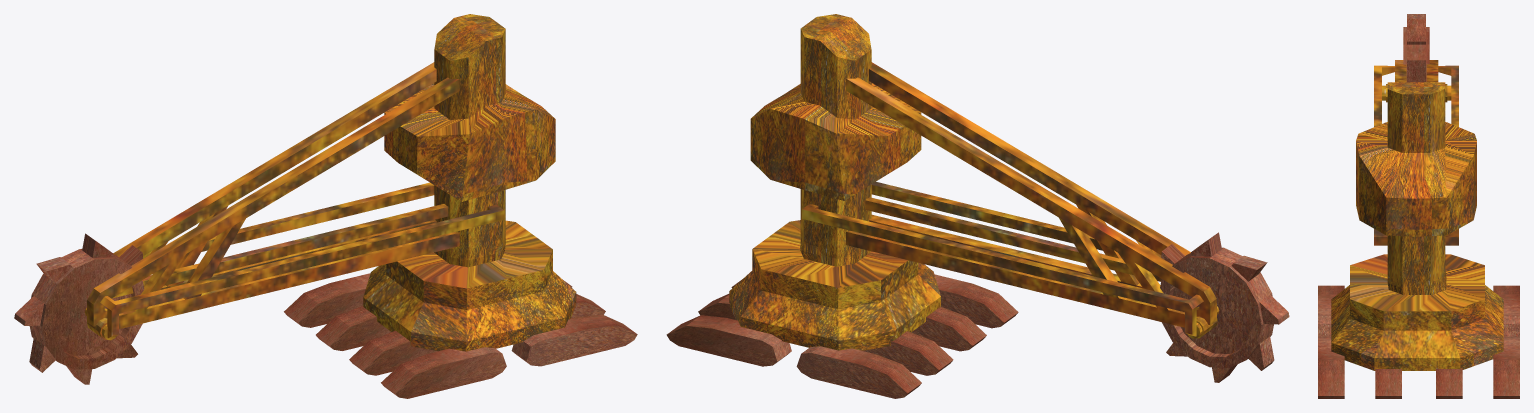
File: ExtractionMachene.glb
3 renders of one model, left to right at view 1: azimuth 30°, elevation 25°; view 2: azimuth 150°, elevation 25°; view 3: azimuth 270°, elevation 25°, orthographic. The views are drawn at different scales.
Parts seen in each view (by area): view 1: Frame, RotatingTower, Base, Wheels, MainGear; view 2: Frame, RotatingTower, Base, Wheels, MainGear; view 3: RotatingTower, Base, Wheels, Frame, MainGear.
Boxes of the visible parts, box(x1,y1,x2,y2) form: Frame: box(84, 62, 504, 340); RotatingTower: box(384, 14, 555, 267); Base: box(363, 220, 576, 351); Wheels: box(284, 273, 637, 398); MainGear: box(14, 233, 144, 384); Frame: box(802, 62, 1219, 338); RotatingTower: box(750, 14, 921, 266); Base: box(729, 220, 940, 350); Wheels: box(666, 274, 1018, 398); MainGear: box(1160, 232, 1289, 382); RotatingTower: box(1356, 82, 1476, 294); Base: box(1331, 254, 1503, 370); Wheels: box(1318, 285, 1519, 398); Frame: box(1374, 60, 1458, 245); MainGear: box(1403, 14, 1429, 82).
Size of the model in its own units: 101 by 51.52 by 34.66.
Materials: 2 (2 with a texture image).
